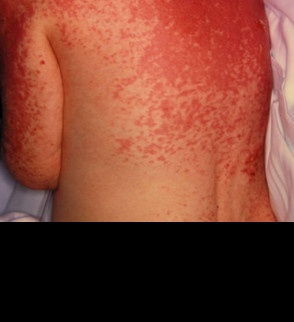SJS-TEN: (2, 0, 284, 223)
